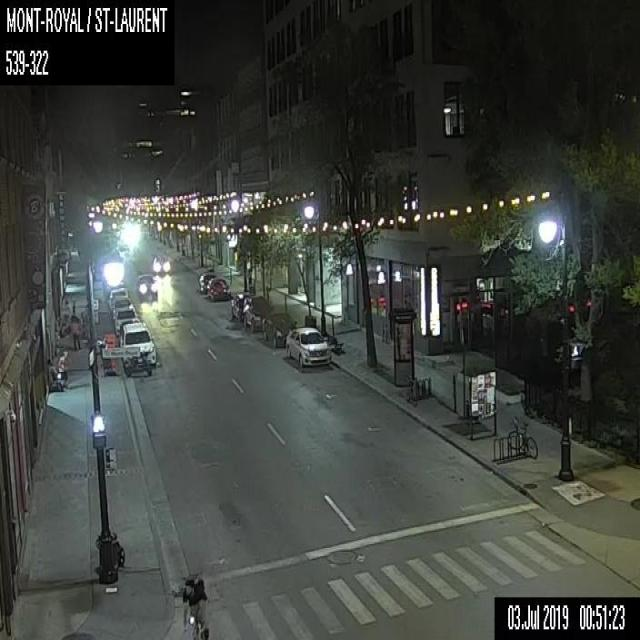cyclist: (180, 576, 209, 639)
pedestrian: (70, 313, 82, 351), (58, 350, 70, 387), (61, 298, 71, 321)
vehicle: (285, 325, 331, 368), (120, 320, 156, 366), (261, 311, 297, 347), (242, 294, 274, 332), (114, 302, 140, 333), (230, 290, 254, 322), (102, 262, 125, 294), (123, 349, 151, 375), (136, 273, 157, 300), (206, 276, 230, 299), (108, 286, 130, 309), (112, 295, 132, 320), (196, 272, 216, 292), (152, 254, 169, 273)
